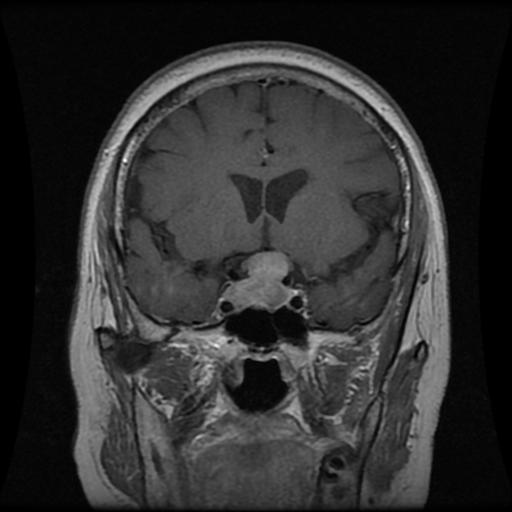Pituirity_tumour: (224, 248, 289, 305)
